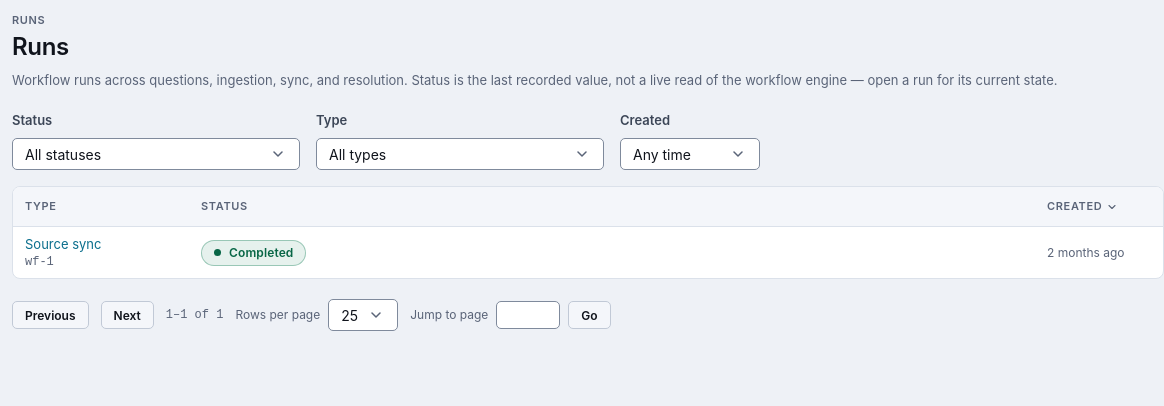
Test: RunsPage › announces the result count once after a filter change, and nothing on the first load
expect the link "Source sync" is shown: met, box x1=25 y1=236 x2=102 y2=252
Select "Failed" in the dropdown labelled "Status". click: (156, 154)
box: x1=12 y1=138 x2=300 y2=170
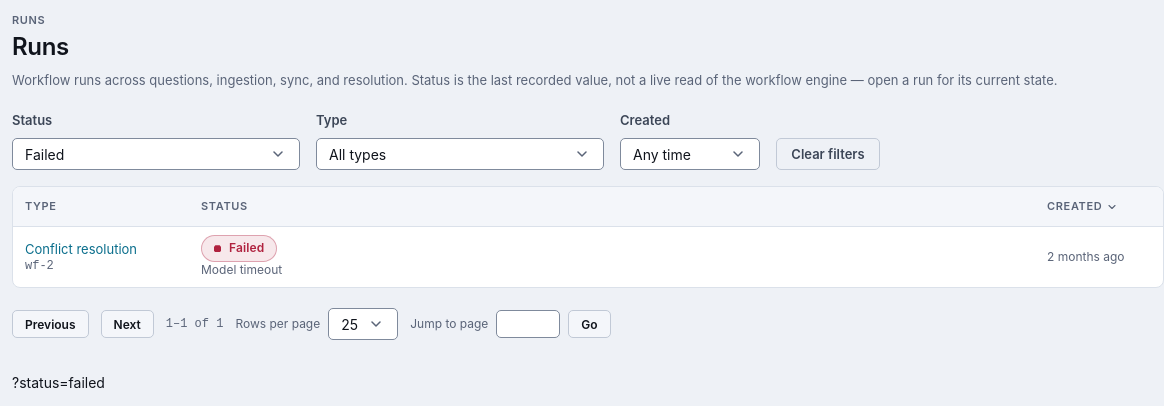
expect the link "Conflict resolution" is shown: met, box x1=25 y1=241 x2=137 y2=257
